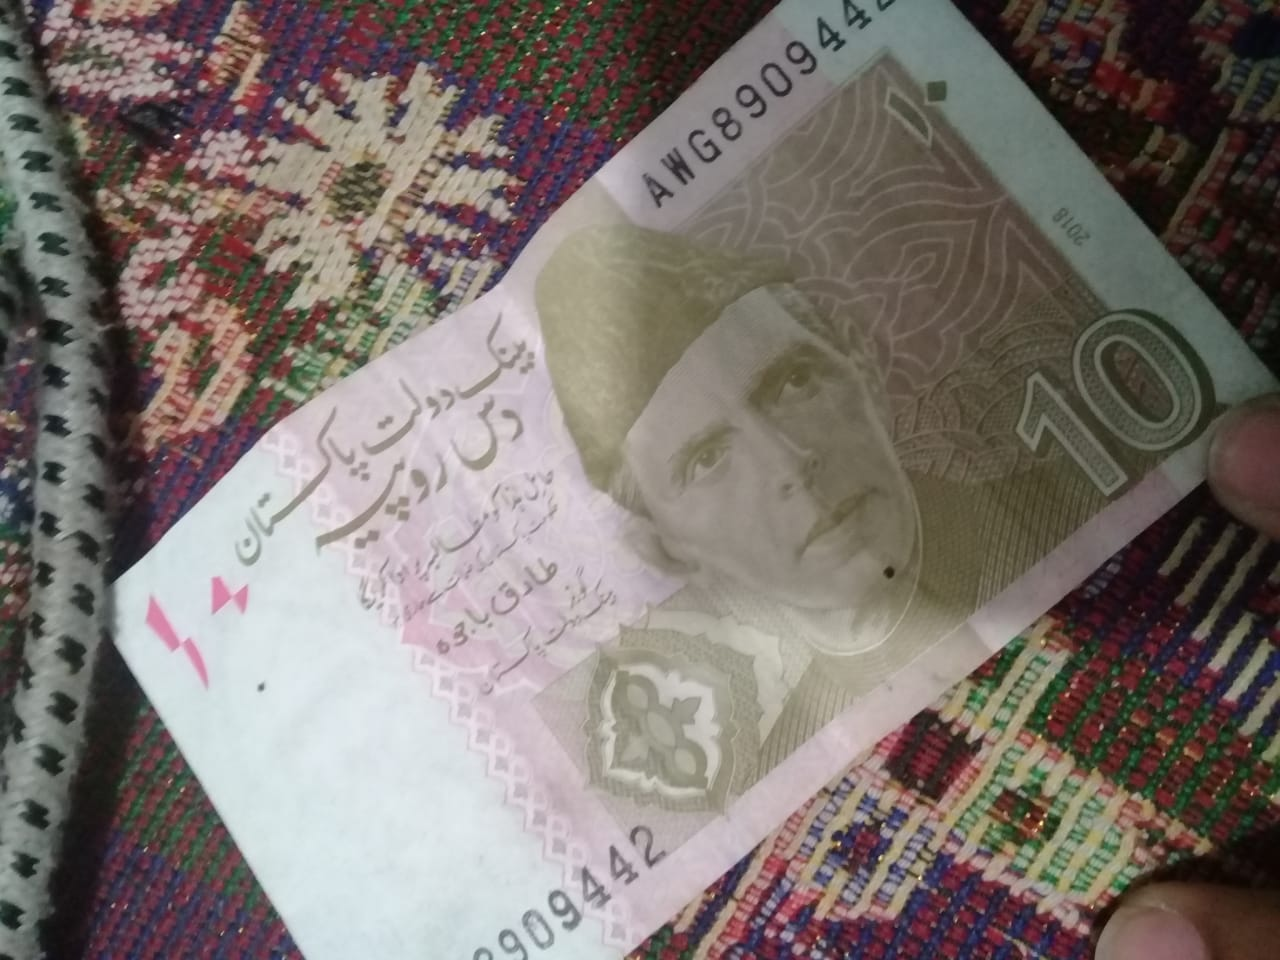10 rupee: (80, 33, 1261, 944)
